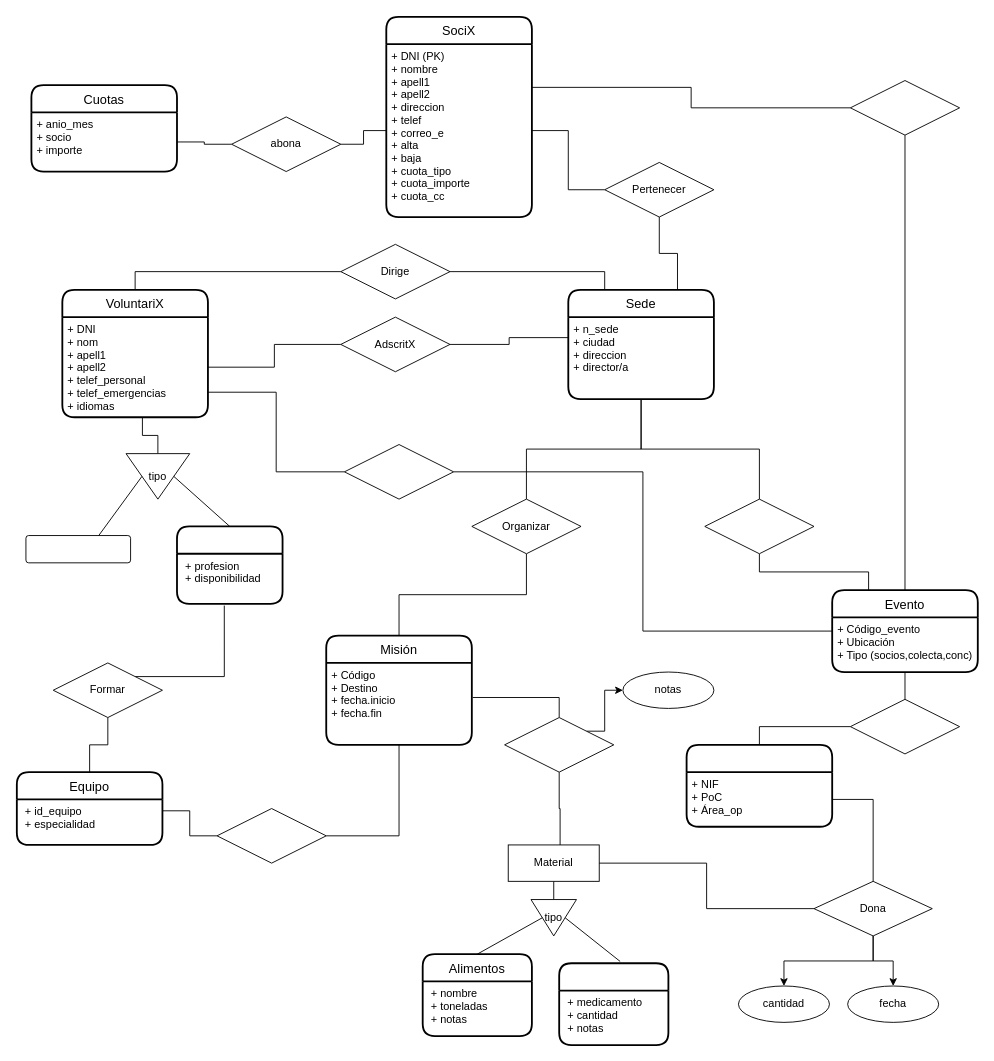
This 994x1061 diagram has some shape labels left out. The box of each missing label's shape, as (x1, y1, x2, y2) in pixels:
AdministrativX: (25, 535, 131, 563)
Asociar: (849, 80, 960, 135)
Colabora: (849, 698, 960, 754)
Colaboradores: (685, 743, 833, 827)
Coordina: (704, 498, 814, 554)
Desplazar: (216, 808, 326, 863)
Envío: (504, 717, 614, 772)
Medicamentos: (558, 962, 669, 1046)
Participa: (344, 444, 454, 499)
SanitariX: (176, 525, 283, 604)
